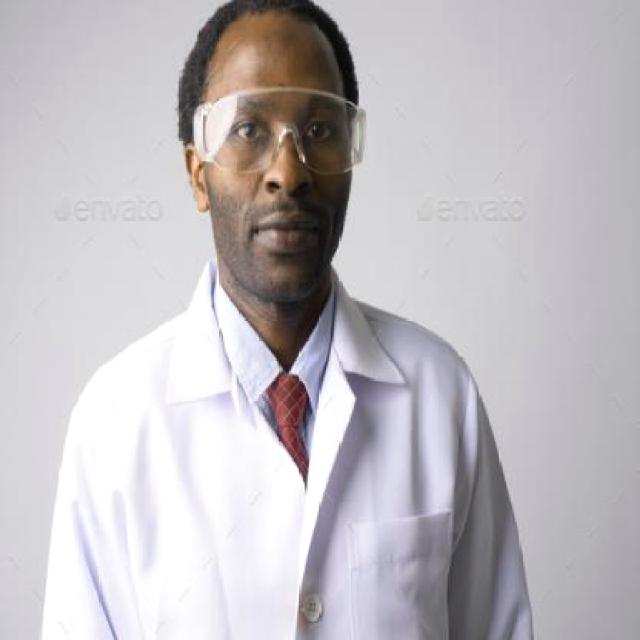face_nomask: (219, 106, 350, 257)
glasses: (191, 84, 367, 179)
head_nohelmet: (208, 0, 352, 54)
person: (46, 7, 547, 640)
